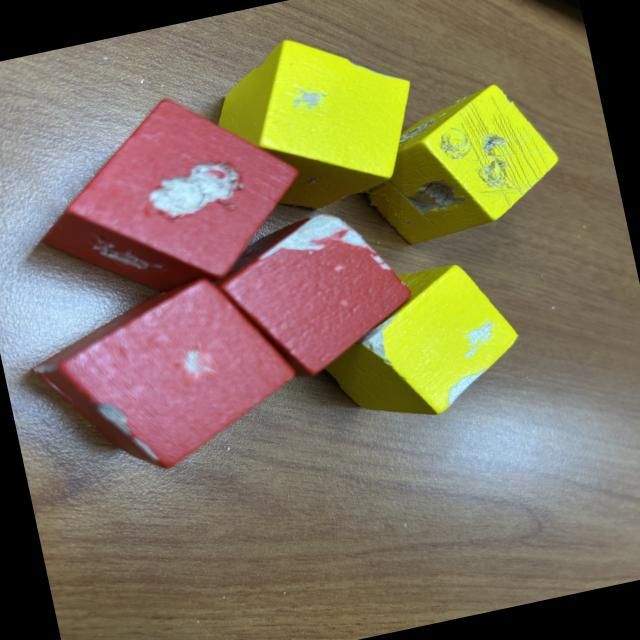broken: (17, 74, 318, 316), (20, 264, 308, 492), (202, 14, 432, 226), (194, 200, 422, 392), (298, 252, 530, 436), (344, 74, 570, 252)
